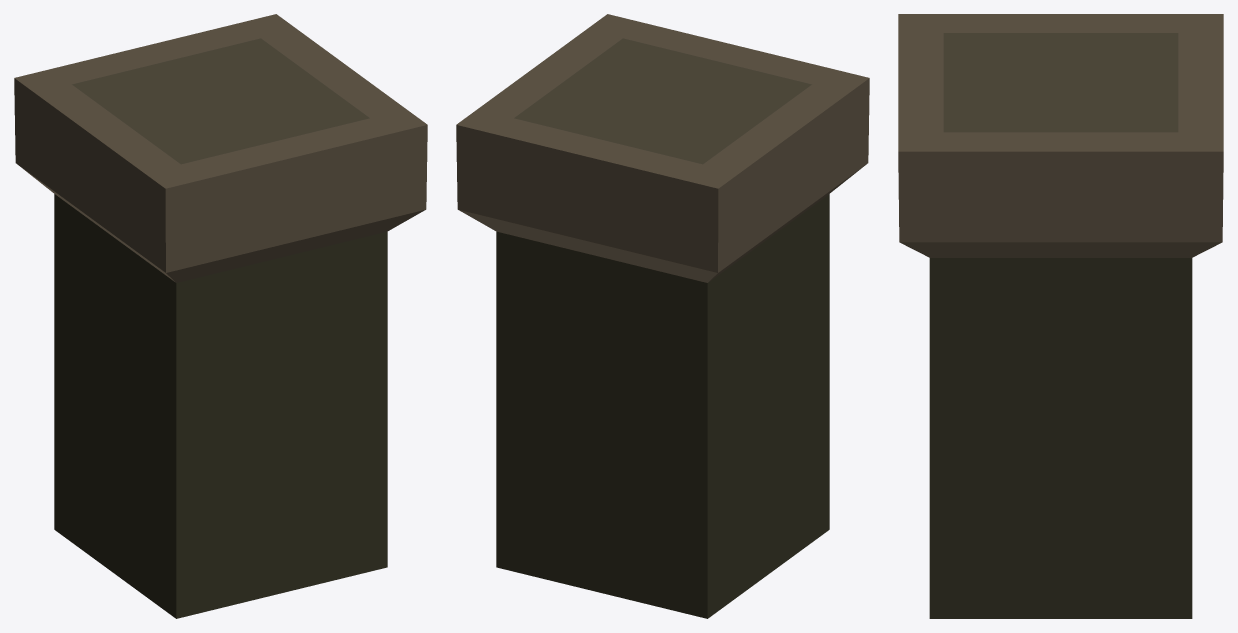
Rendered from Chimney_2_D_1.fbx.
3 renders of one model, left to right at view 1: azimuth 30°, elevation 25°; view 2: azimuth 150°, elevation 25°; view 3: azimuth 270°, elevation 25°, orthographic. The views are drawn at different scales.
Visible parts, largest first — view 1: Chimney_2_D_1; view 2: Chimney_2_D_1; view 3: Chimney_2_D_1.
Boxes of the visible parts, <box> form: Chimney_2_D_1: <box>14,14,427,618</box>; Chimney_2_D_1: <box>456,14,869,618</box>; Chimney_2_D_1: <box>898,14,1223,618</box>.
Bounding box in the file's own units: 63.29 × 103 × 63.29.
